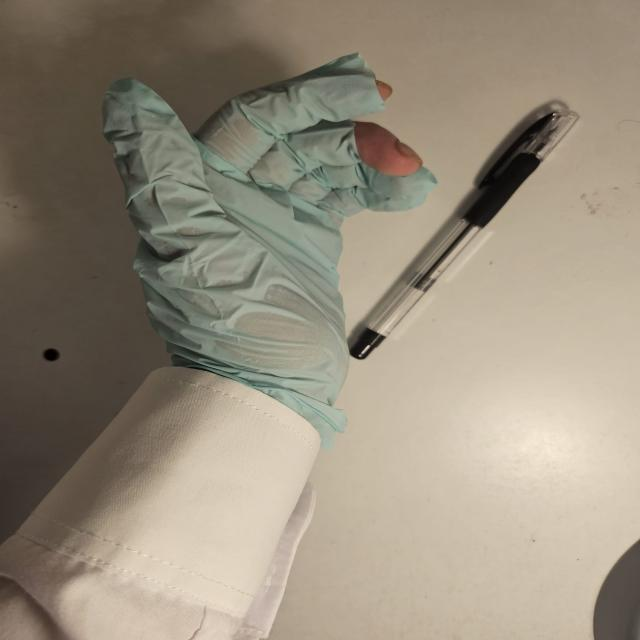gloves_damaged: (96, 53, 442, 432)
